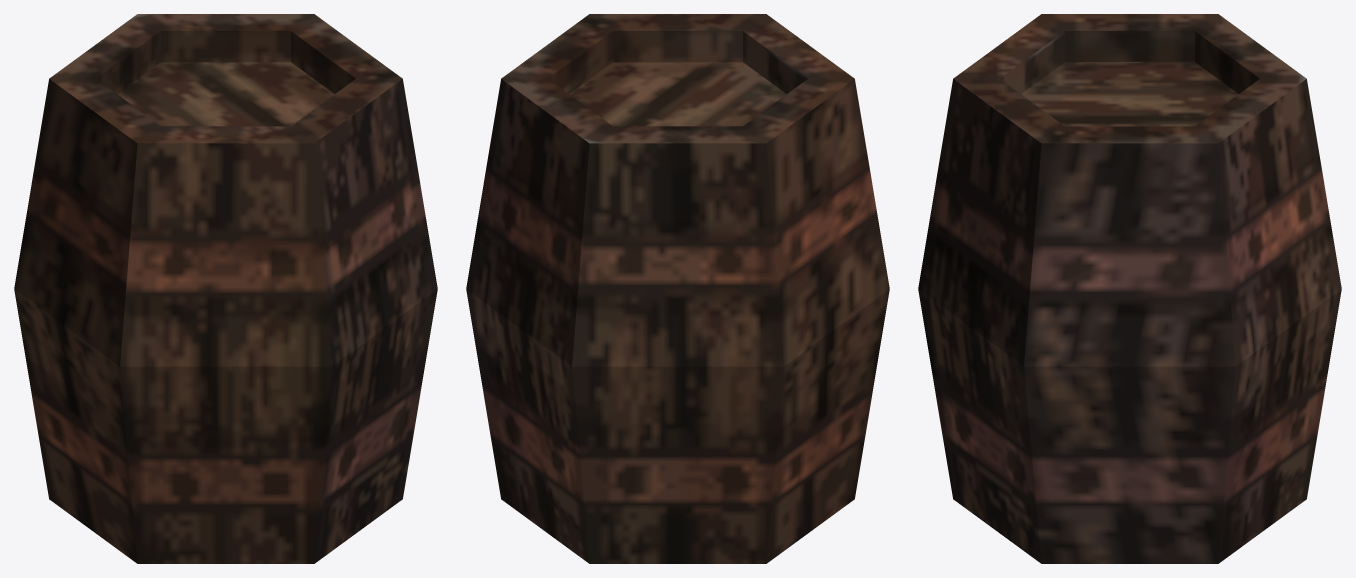
The model's file is Barrel_02.fbx.
The picture shows the model from 3 angles, left to right: view 1: azimuth 30°, elevation 25°; view 2: azimuth 150°, elevation 25°; view 3: azimuth 270°, elevation 25°; orthographic projection.
Visible parts, largest first — view 1: Barrel_02; view 2: Barrel_02; view 3: Barrel_02.
Boxes of the visible parts, x1,y1,x2,y2 form: Barrel_02: [14, 14, 437, 563]; Barrel_02: [466, 14, 889, 563]; Barrel_02: [918, 14, 1341, 563].
Size of the model in its own units: 262 by 331 by 302.
Materials: 1 (1 with a texture image).
